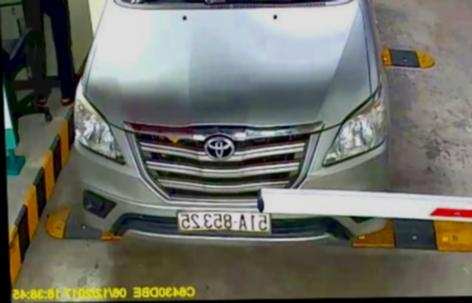License_Plate: (173, 210, 271, 234)
